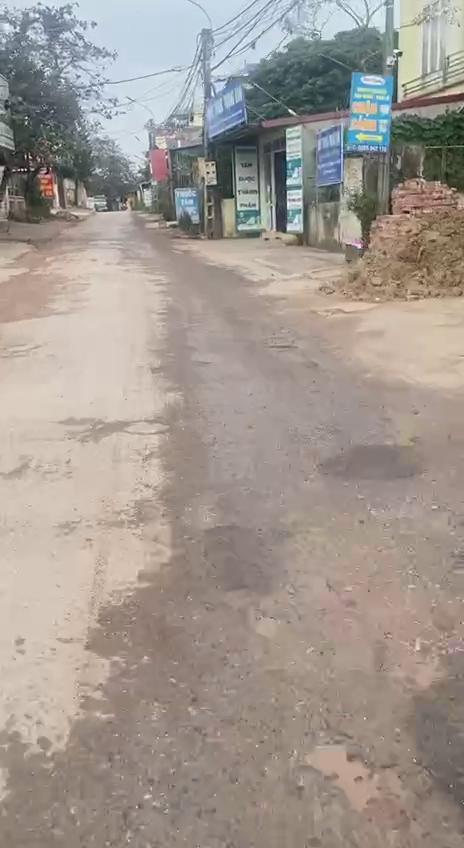pothole: (283, 730, 464, 848)
